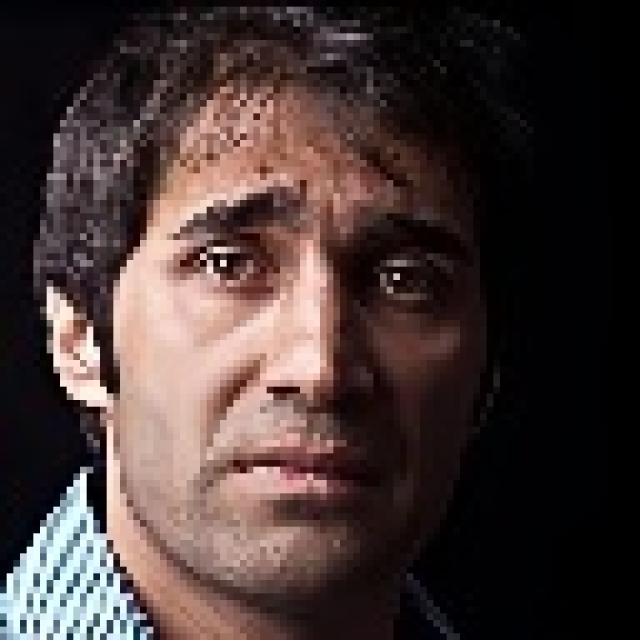sad: (68, 32, 562, 640)
